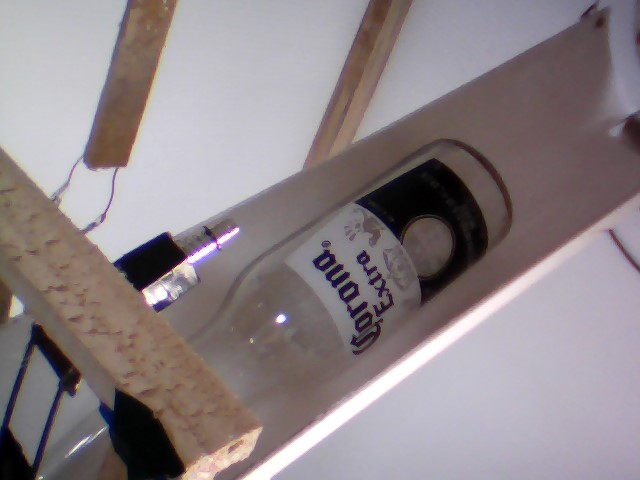vidrio: (174, 134, 524, 409)
